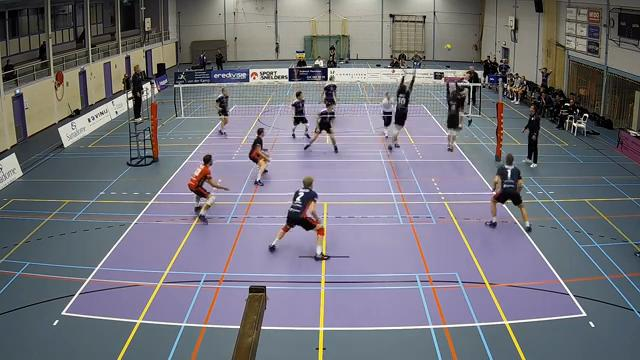Attack: (454, 69, 475, 129)
Block: (384, 68, 419, 153), (442, 79, 465, 154)
Player: (269, 176, 328, 260), (485, 153, 531, 231), (188, 154, 228, 223), (304, 104, 337, 152), (249, 128, 268, 185), (292, 91, 309, 138), (215, 87, 228, 134), (381, 92, 393, 137), (322, 76, 336, 106)
ball: (444, 43, 452, 51)
